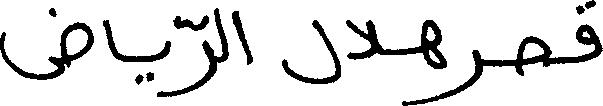X: (0, 3, 91, 84), (284, 15, 340, 88), (184, 5, 214, 98), (421, 15, 447, 105), (449, 45, 481, 101), (576, 0, 602, 67), (516, 31, 551, 80), (348, 15, 376, 64), (232, 6, 251, 69), (216, 3, 226, 75), (103, 15, 116, 63), (164, 36, 169, 101)
